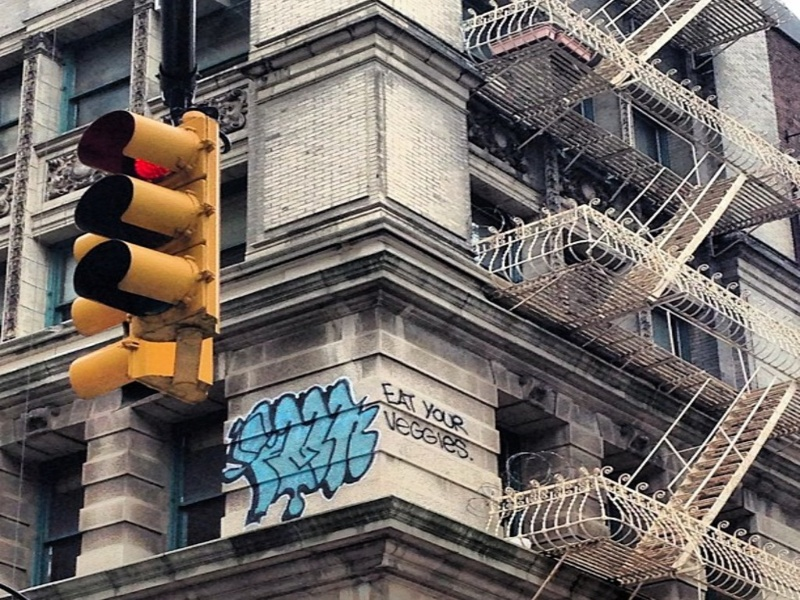red_light: (55, 104, 206, 174)
